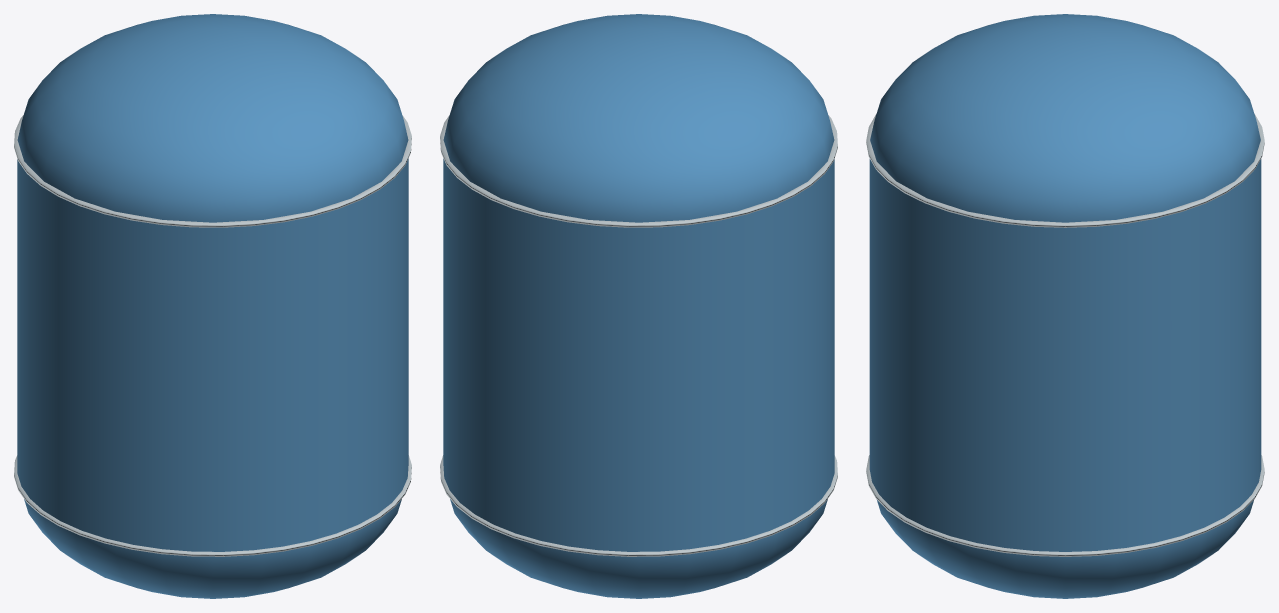
Rendered from sls_core_lox_vessel.glb.
3 views of the same model, side by side, from view 1: azimuth 30°, elevation 25°; view 2: azimuth 150°, elevation 25°; view 3: azimuth 270°, elevation 25° (orthographic).
Visible parts, largest first — view 1: sls_corecutawayloxmesh_Cutaway_liquid_oxygen, sls_corecutawayloxmesh_Satin_aluminum; view 2: sls_corecutawayloxmesh_Cutaway_liquid_oxygen, sls_corecutawayloxmesh_Satin_aluminum; view 3: sls_corecutawayloxmesh_Cutaway_liquid_oxygen, sls_corecutawayloxmesh_Satin_aluminum.
Part boxes in pixels (x1=…): sls_corecutawayloxmesh_Cutaway_liquid_oxygen: x1=17, y1=14, x2=408, y2=598; sls_corecutawayloxmesh_Satin_aluminum: x1=14, y1=115, x2=411, y2=556; sls_corecutawayloxmesh_Cutaway_liquid_oxygen: x1=443, y1=14, x2=834, y2=598; sls_corecutawayloxmesh_Satin_aluminum: x1=440, y1=115, x2=837, y2=556; sls_corecutawayloxmesh_Cutaway_liquid_oxygen: x1=869, y1=14, x2=1261, y2=598; sls_corecutawayloxmesh_Satin_aluminum: x1=866, y1=114, x2=1264, y2=556.
Size of the model in its own units: 8.05 by 11.7 by 8.05.
